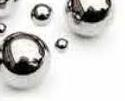ironball: (0, 31, 50, 89), (67, 0, 115, 38), (29, 0, 53, 27), (0, 0, 16, 19), (56, 36, 68, 52), (0, 20, 7, 33)
